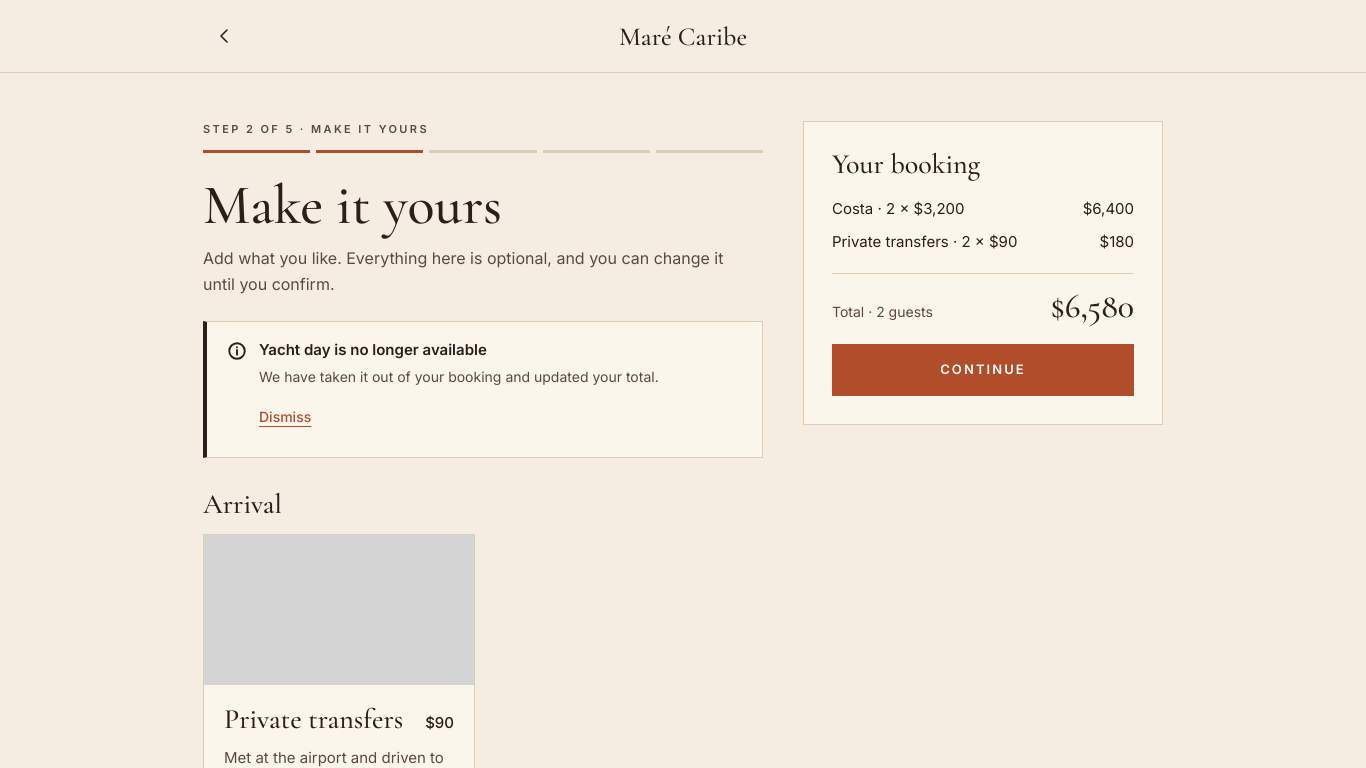
Test case: Customise (step 2) and the add-ons step › drops a saved add-on that has sold out, and says so
Check: the text "Yacht day is no longer available" is shown, box 259,340 -> 487,358
Click the button "Dismiss". click: (285, 417)
box: 259,395 -> 311,439
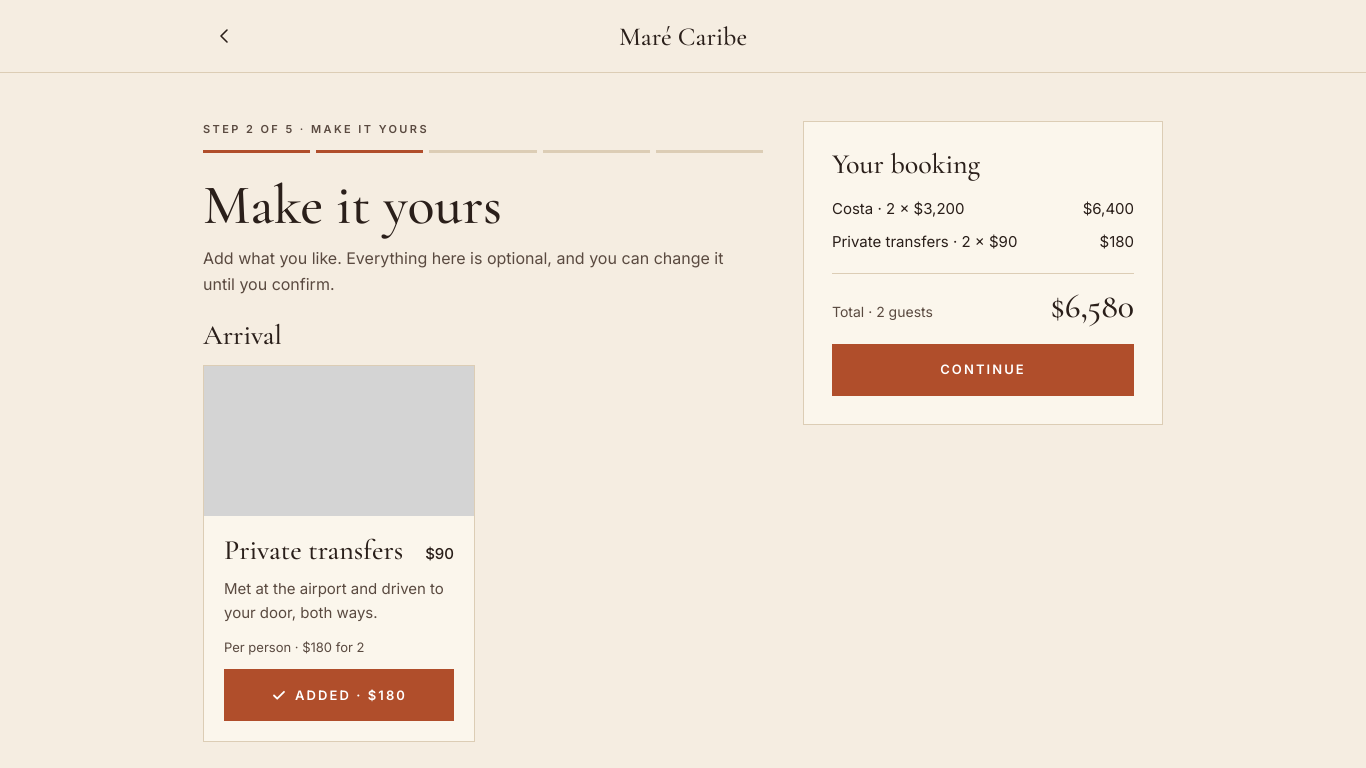
Check: the text "no longer available" is gone
